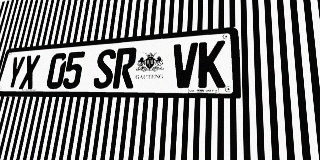0: (45, 52, 68, 89)
5: (62, 51, 85, 89)
K: (198, 40, 225, 88)
R: (112, 47, 137, 88)
S: (92, 49, 117, 89)
V: (171, 42, 198, 88)
X: (19, 55, 41, 89)
Y: (5, 56, 26, 89)
